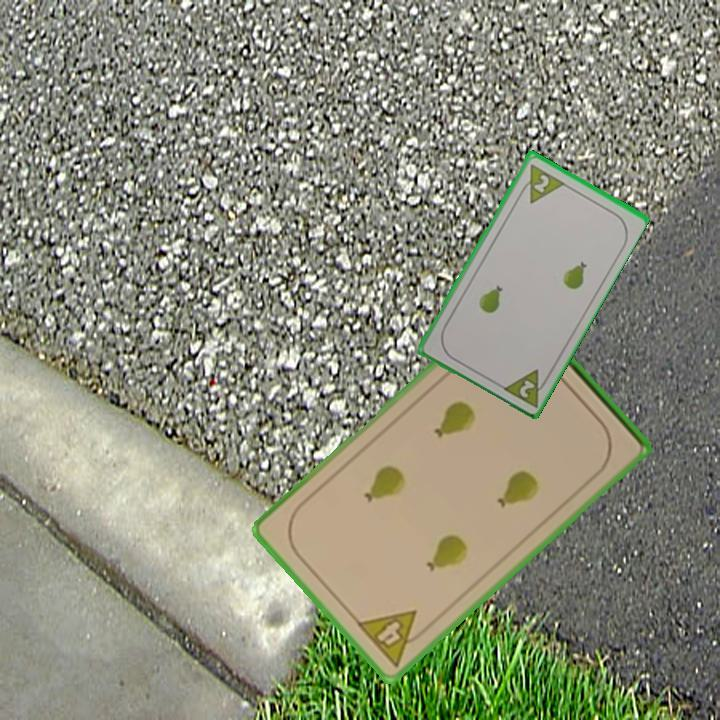2p: (498, 365, 553, 410), (530, 170, 552, 195)
4p: (353, 606, 433, 670)
